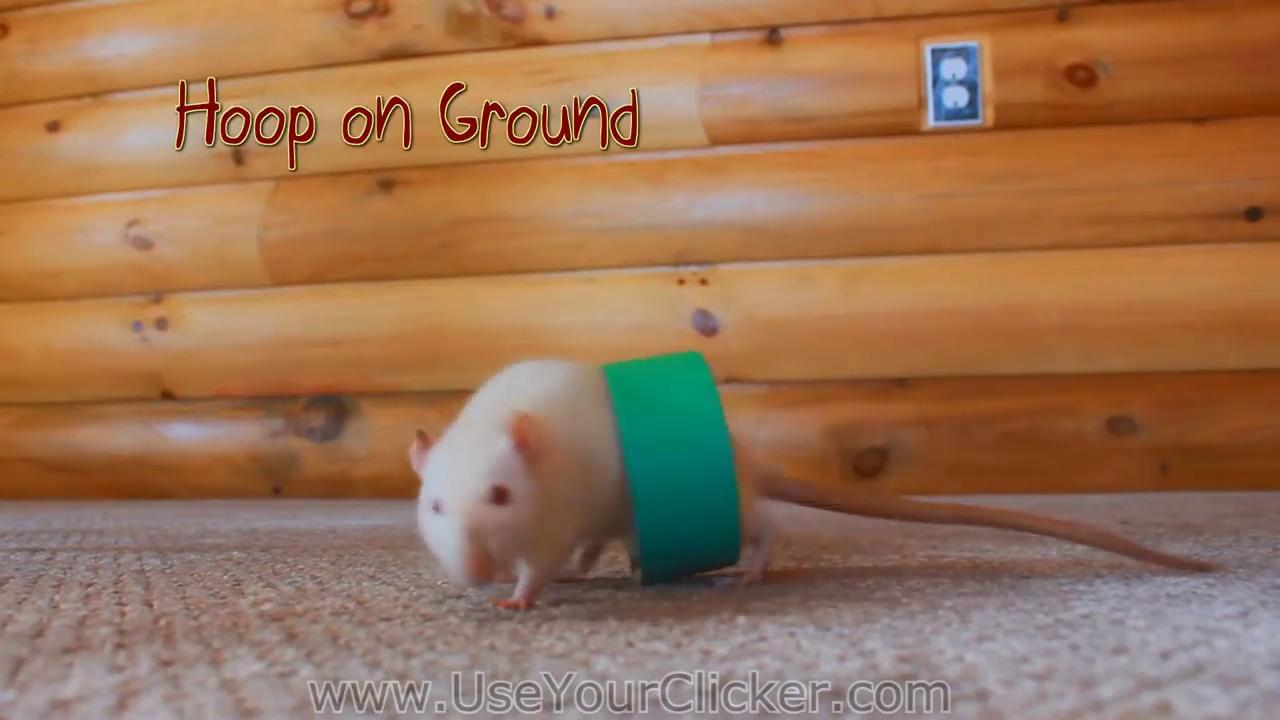rat: (414, 356, 1216, 606)
